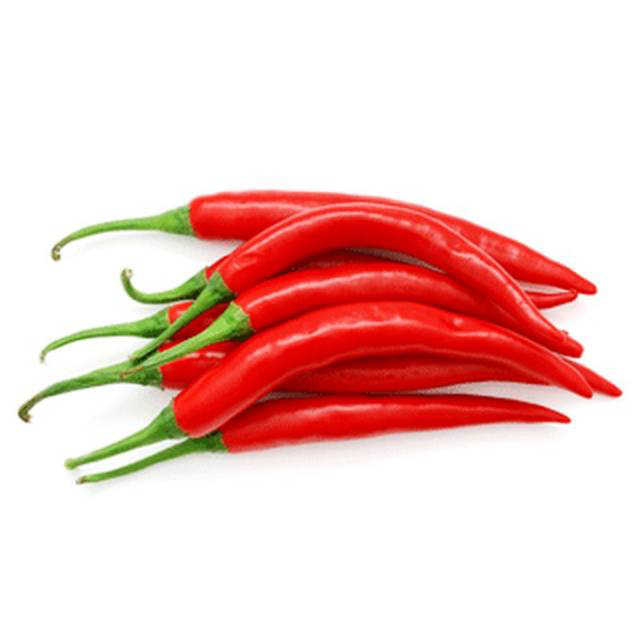Cabai: (29, 143, 628, 504)
